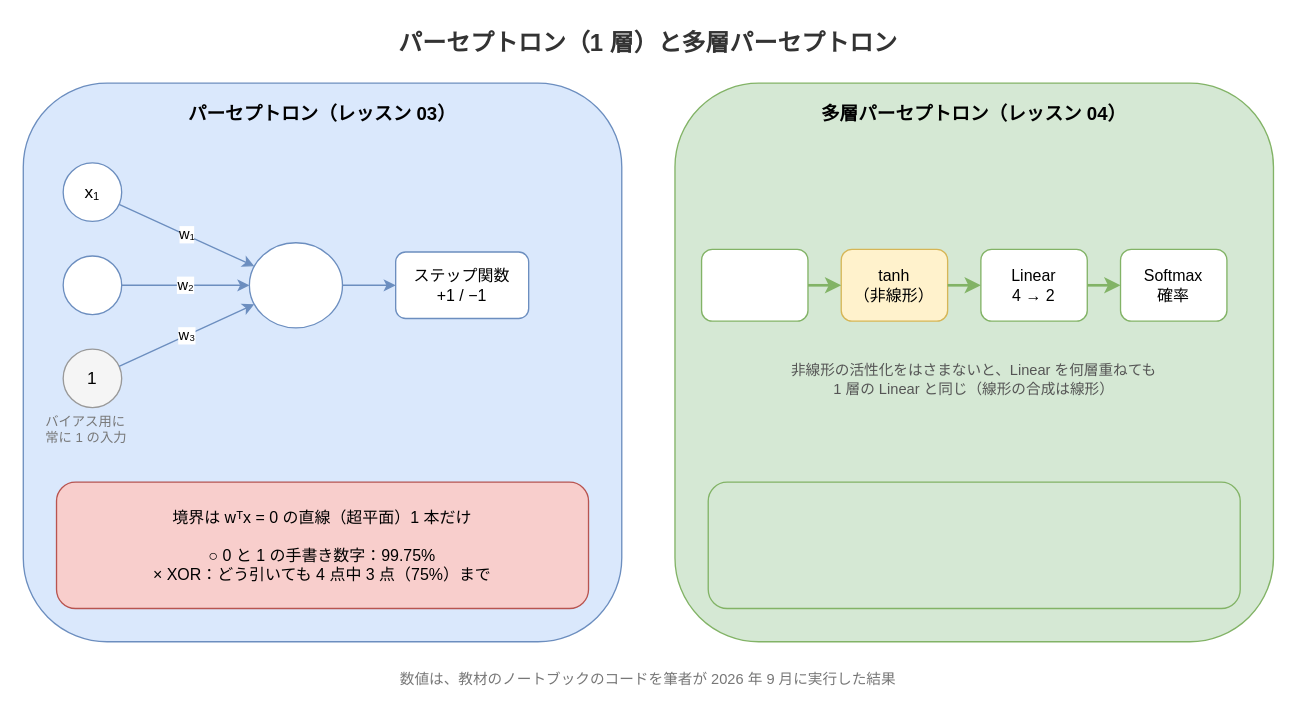
This 1297x717 diagram has some shape labels left out. The shapes that lost their labels are listed below. From the top down, each one's centre as x and y in pixels, then its label:
point (92, 285): x₂
point (295, 284): Σ wᵢxᵢ
point (754, 284): Linear 2 → 4
point (973, 544): 曲がった（非線形の）境界が作れる ○ XOR：4 点すべて正解（100%） 学習は誤差逆伝播法（バックプロパゲーション）
